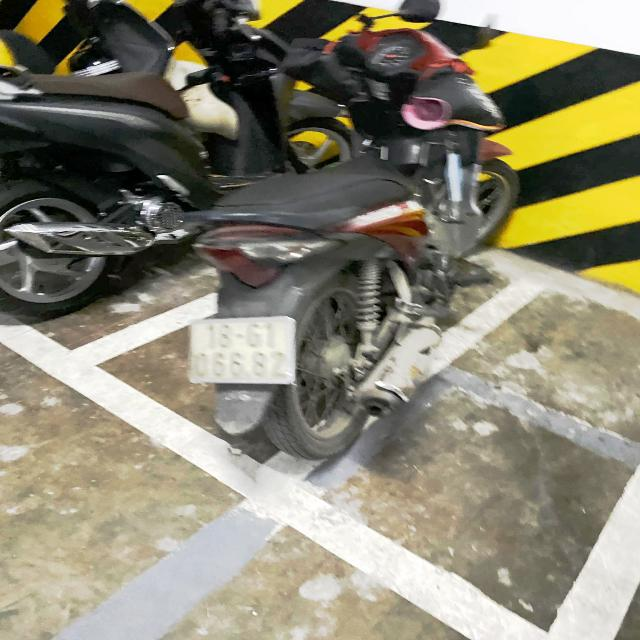license_plate: (186, 316, 298, 385)
